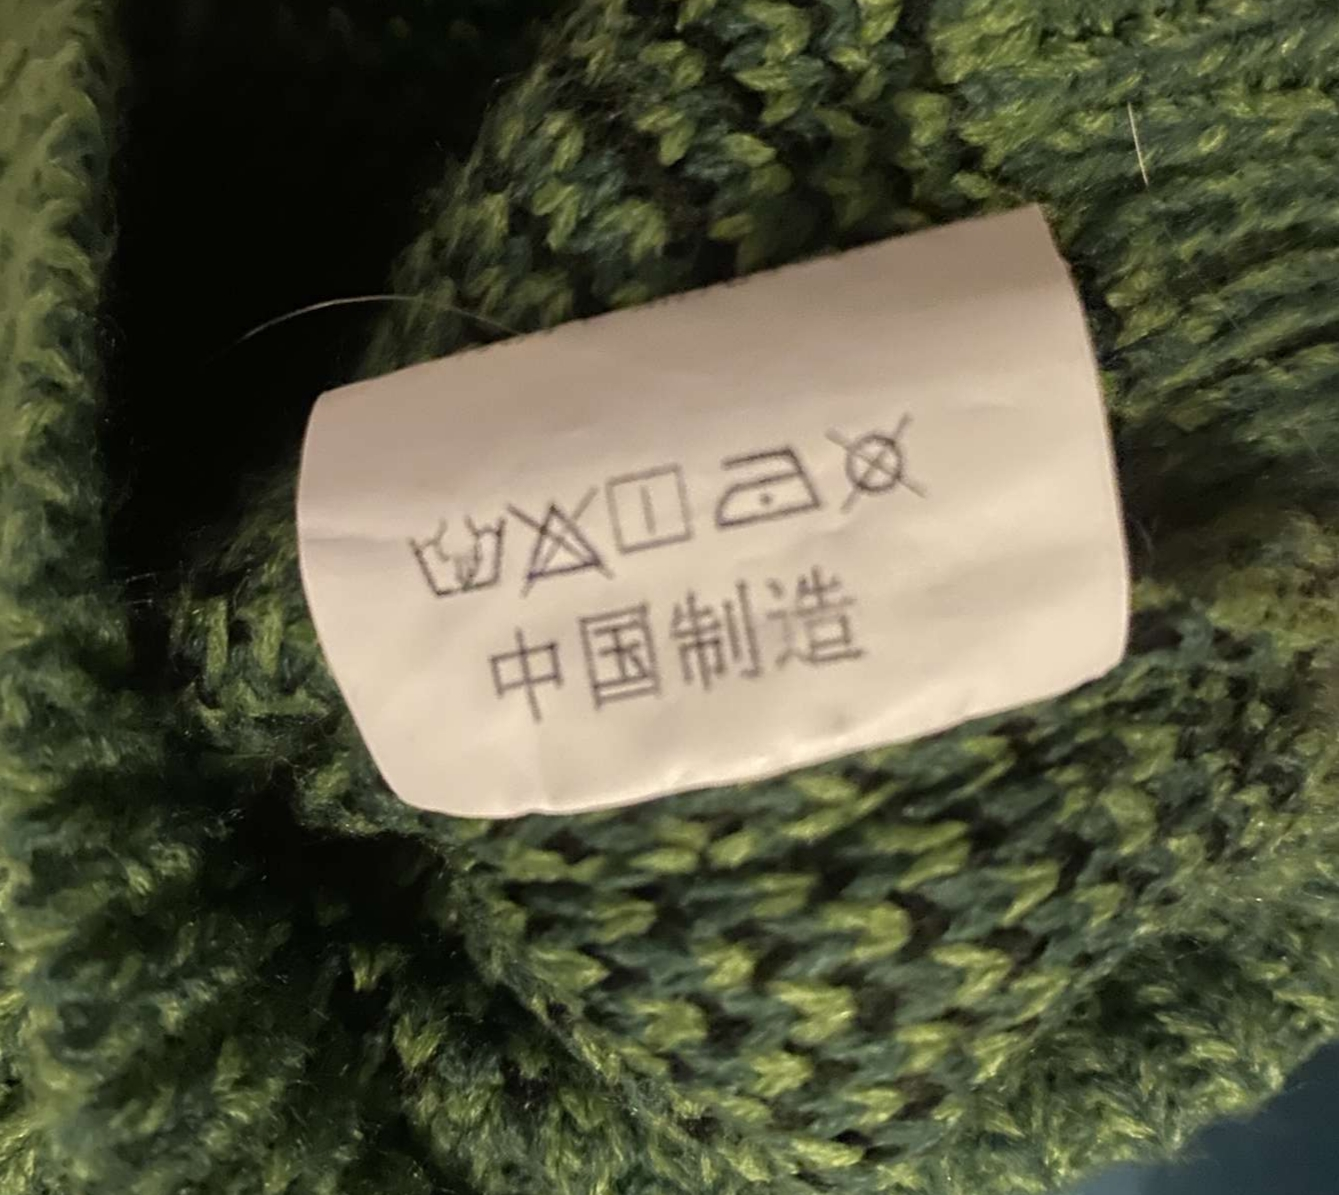do not bleach: (507, 493, 615, 597)
do not dry clean: (826, 418, 942, 514)
drip dry: (602, 467, 702, 562)
handwash: (400, 516, 512, 606)
iron low temp: (697, 448, 832, 550)
